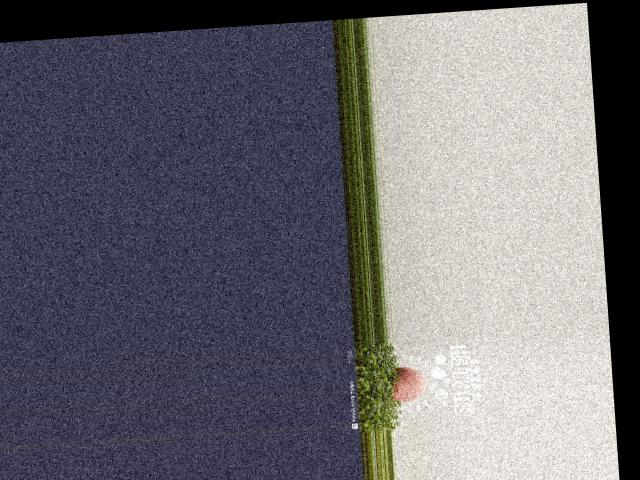egg: (390, 364, 426, 401)
